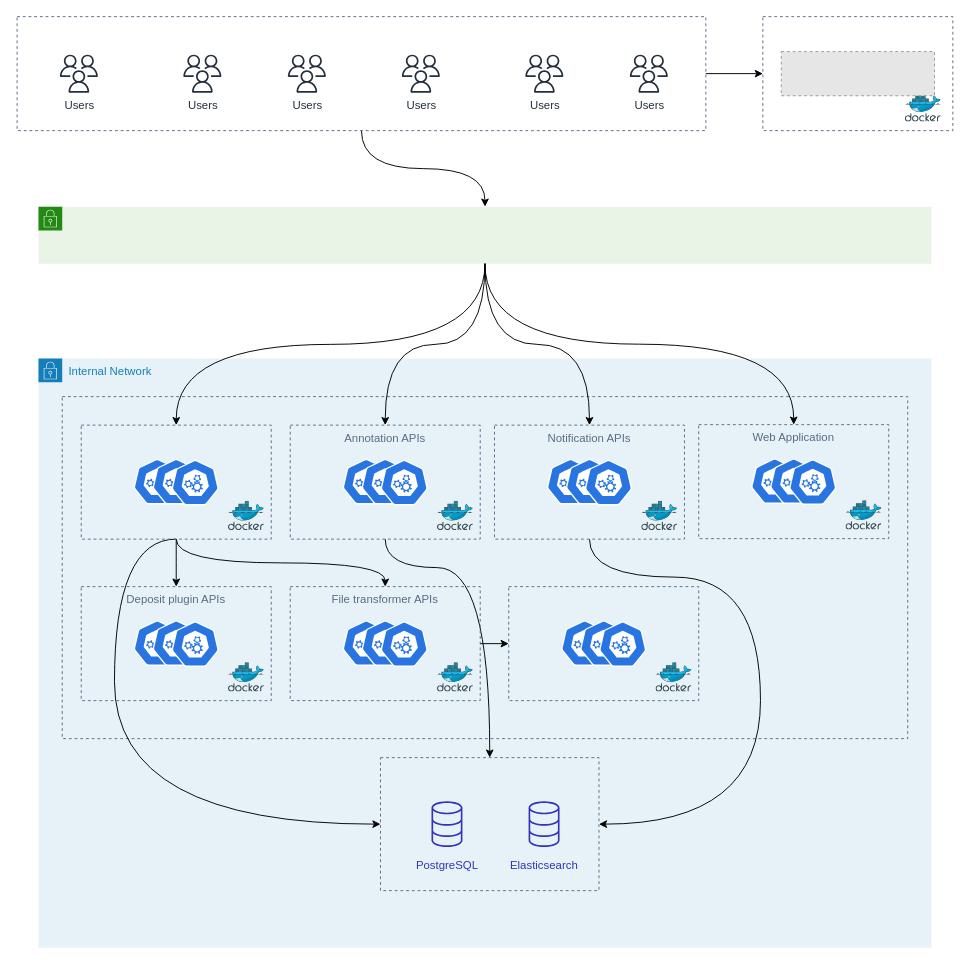
Some shapes in this 969 by 964 pixel diagram are drawn without their labels. Grey dashed boxes stand in for pictures. Each missing label, with the box of its shape:
Data Persistency: (380, 757, 599, 891)
Main APIs: (80, 424, 271, 539)
PDF Service APIs: (508, 586, 699, 701)
RabbitMQ: (61, 396, 908, 739)
Reverse Proxy: (38, 206, 931, 264)
